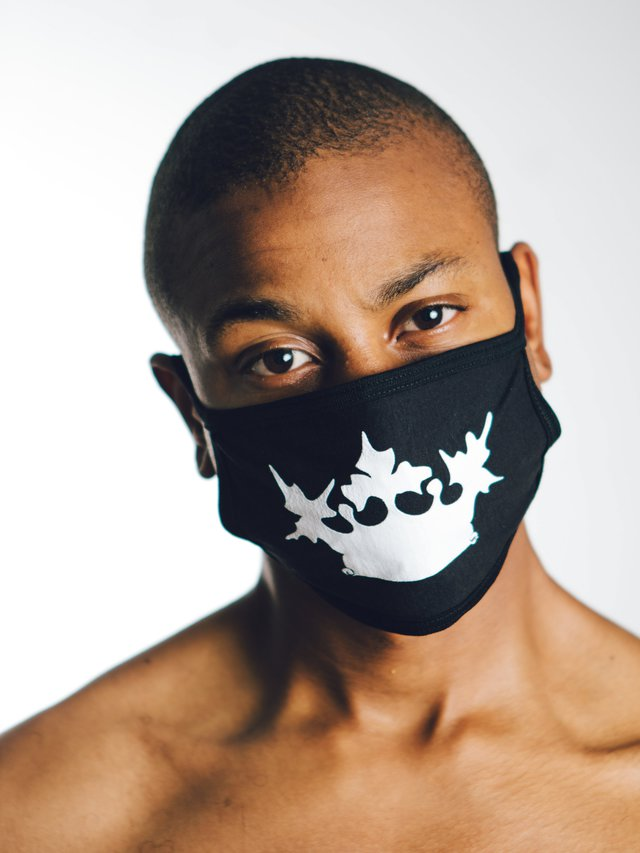mask: (213, 407, 548, 598)
